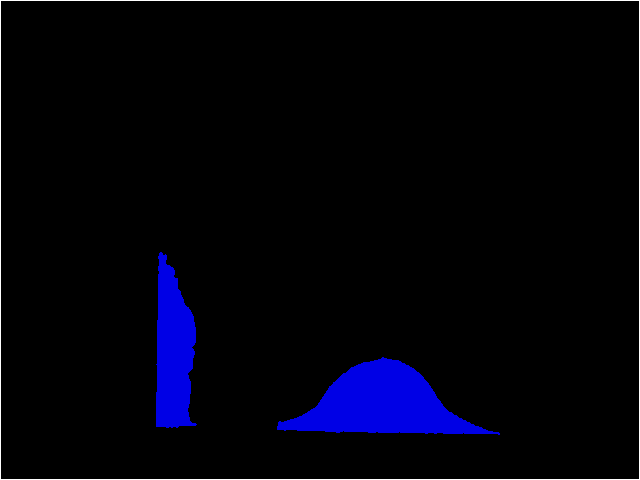defect: (277, 357, 502, 436), (155, 249, 199, 430)
